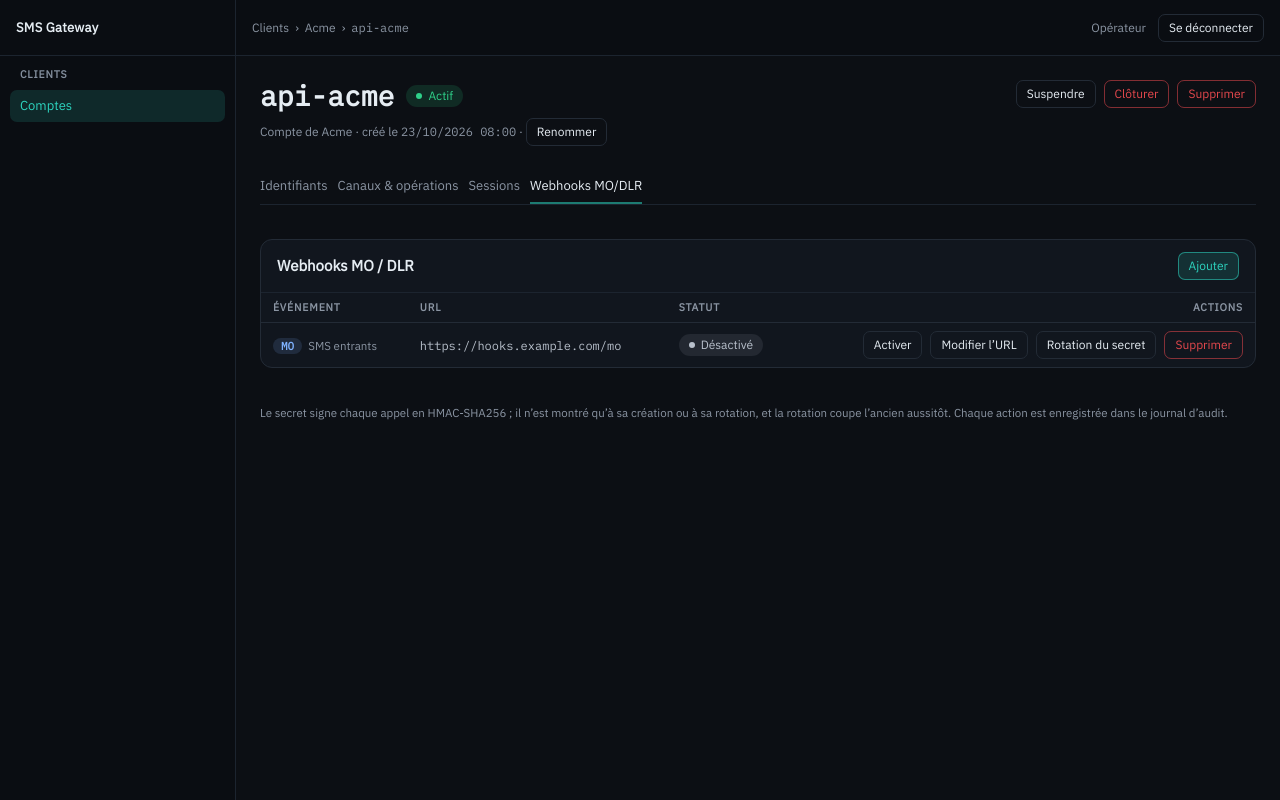
enabling refused because the account closed meanwhile is said in place
Click the button "Activer". click: coordinates (893, 345)
box: [863,331,922,359]
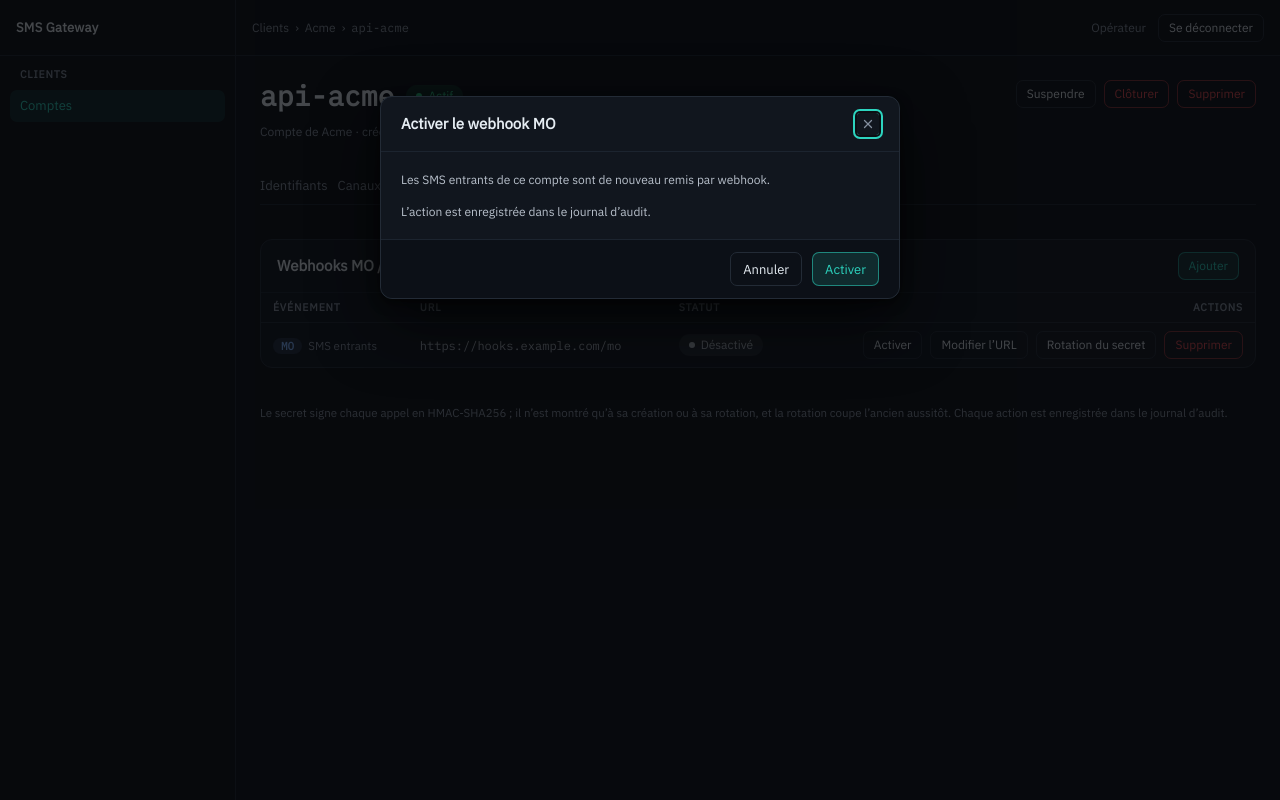
Click the button "Activer". click: coordinates (846, 269)
box: [812,252,879,286]
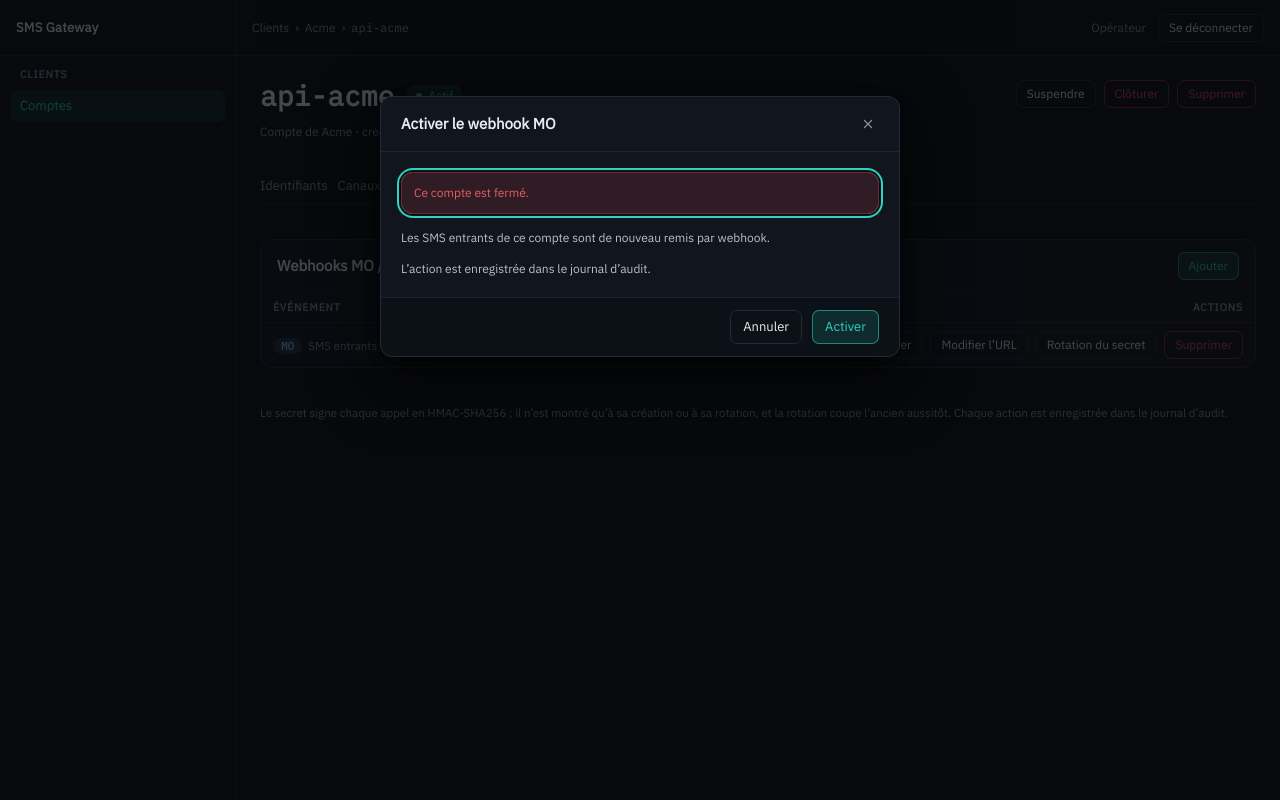
Result: the text "Ce compte est fermé." is shown at [401,172,879,214]
